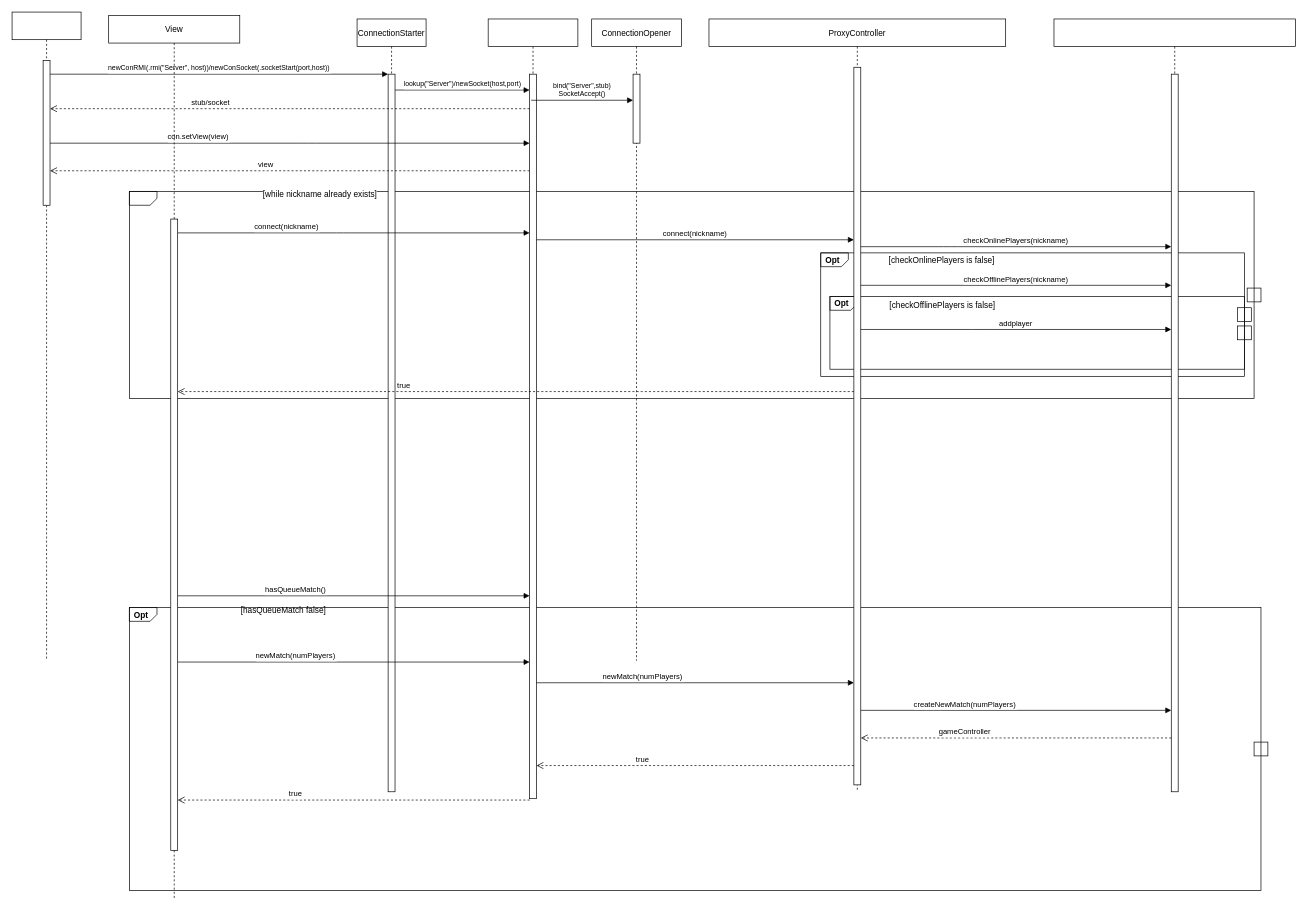
The diagram is 1308 pixels wide and 911 high, and some of its shapes have lost their labels. The shapes that lost their labels are listed below. From the top down, each one's box as (x1, y1, x2, y2) in pixels, then its label:
(129, 191, 1261, 398): loop
(11, 11, 81, 661): Client
(487, 18, 578, 799): INTERFACE (ConnectionController)
(1053, 18, 1295, 792): LobbyController
